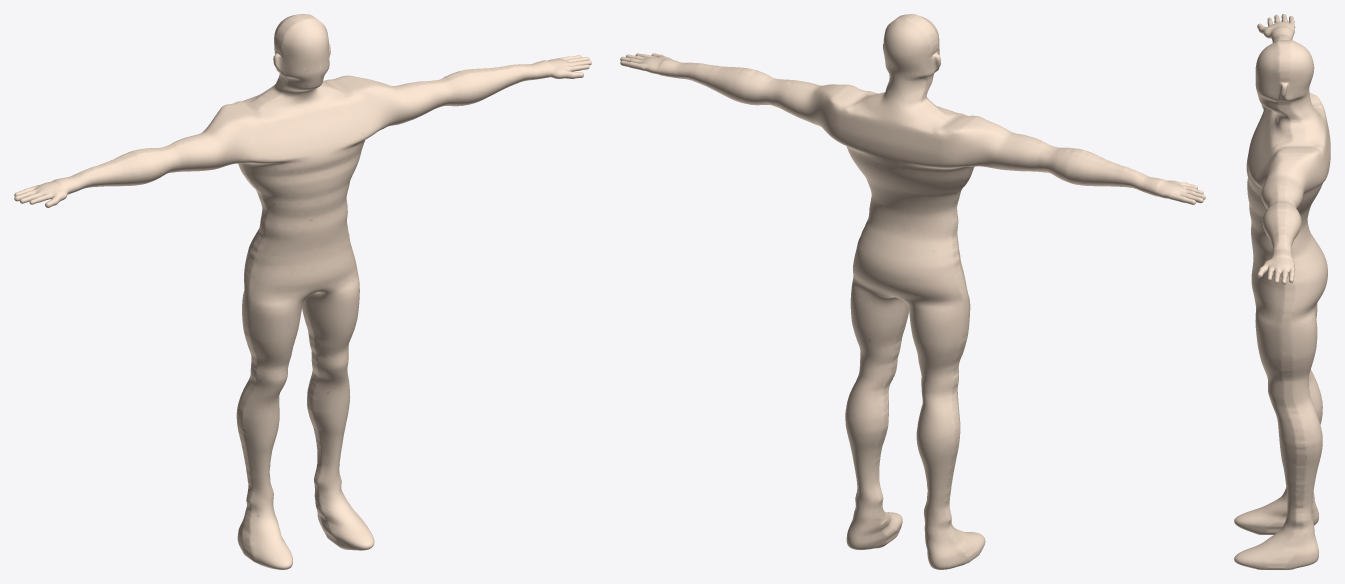
The model's file is male-silhouette-body.glb.
3 renders of one model, left to right at view 1: azimuth 30°, elevation 25°; view 2: azimuth 150°, elevation 25°; view 3: azimuth 270°, elevation 25°, orthographic. The views are drawn at different scales.
Parts seen in each view (by area): view 1: geometry_0; view 2: geometry_0; view 3: geometry_0.
Part boxes in pixels (bbox=[...]): geometry_0: bbox=[14, 14, 591, 569]; geometry_0: bbox=[620, 14, 1205, 569]; geometry_0: bbox=[1234, 14, 1330, 569].
Bounding box in the file's own units: 2.03 × 1.79 × 0.3102.
